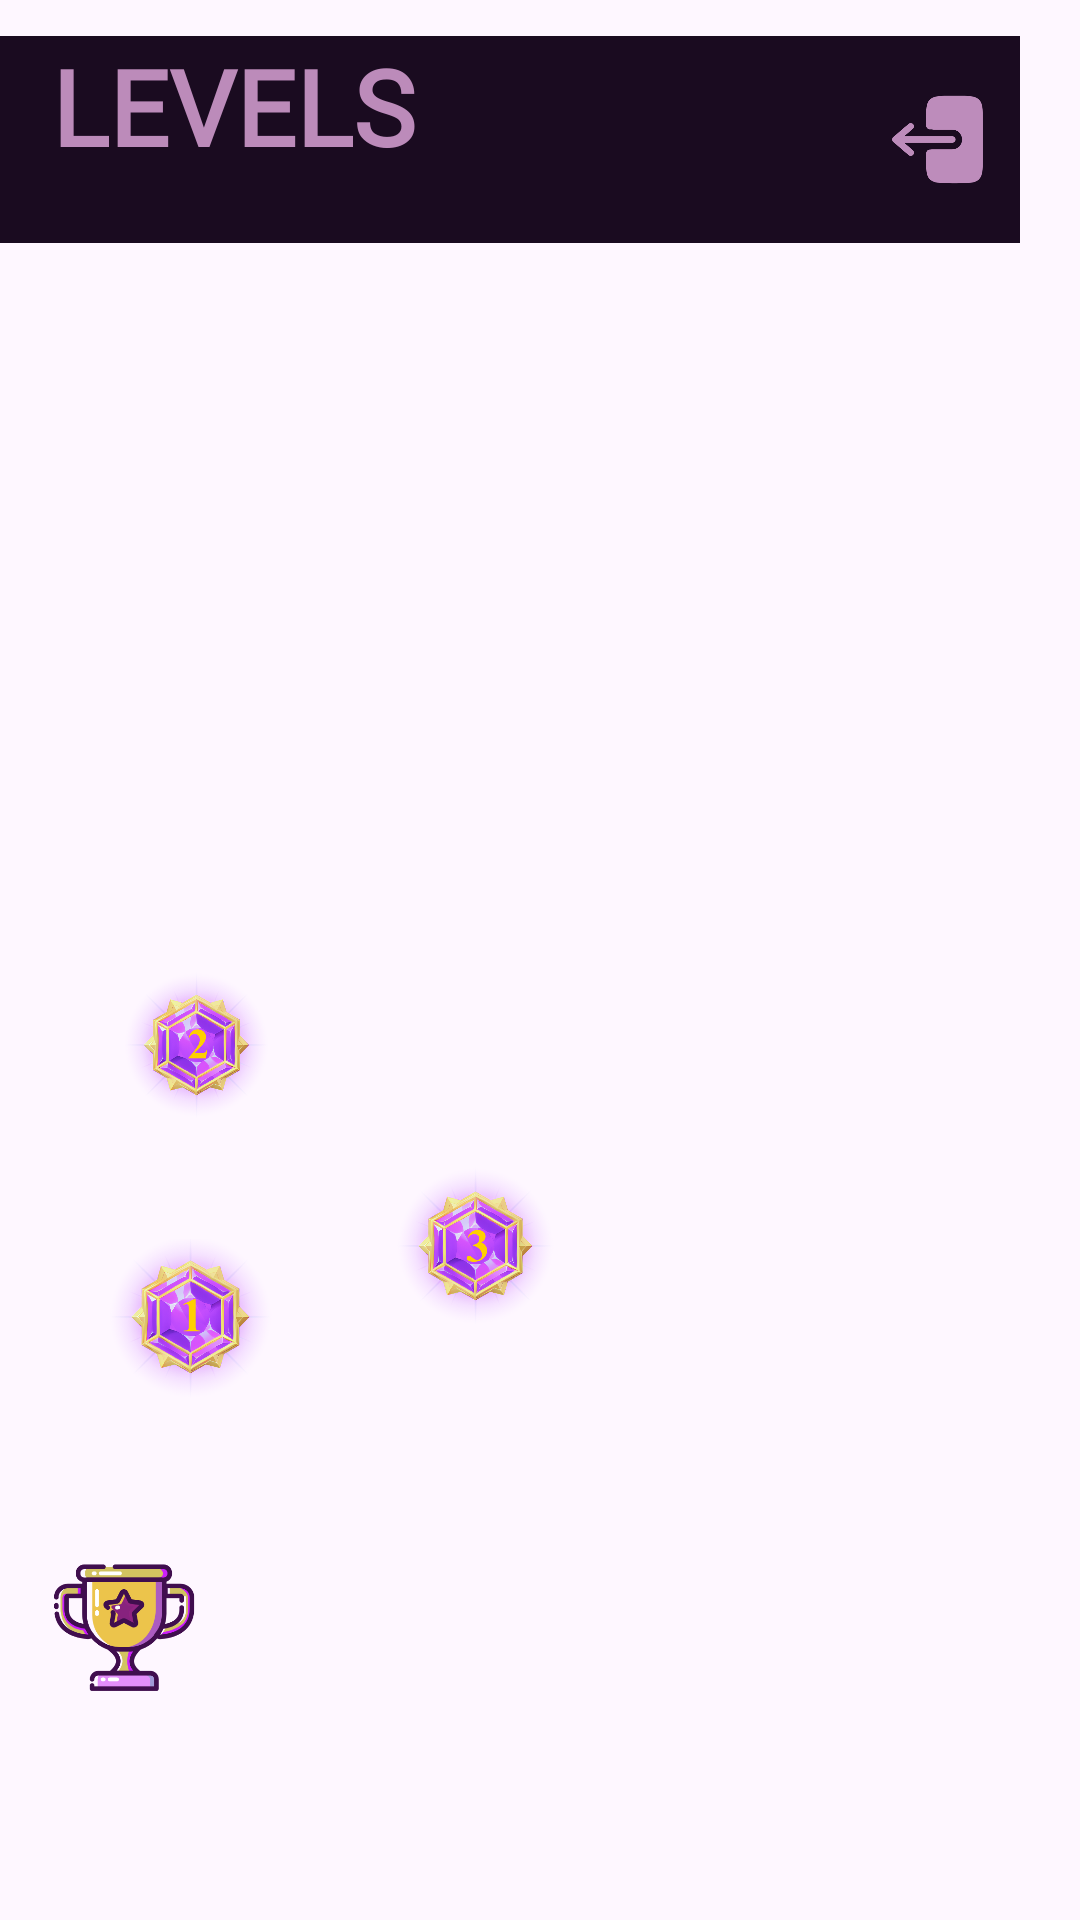

Named icons in this screenshot (1080 x 1920) and their bounding boxes, [x1, y1, x2, y2]:
kupa: [54, 1564, 194, 1691]
